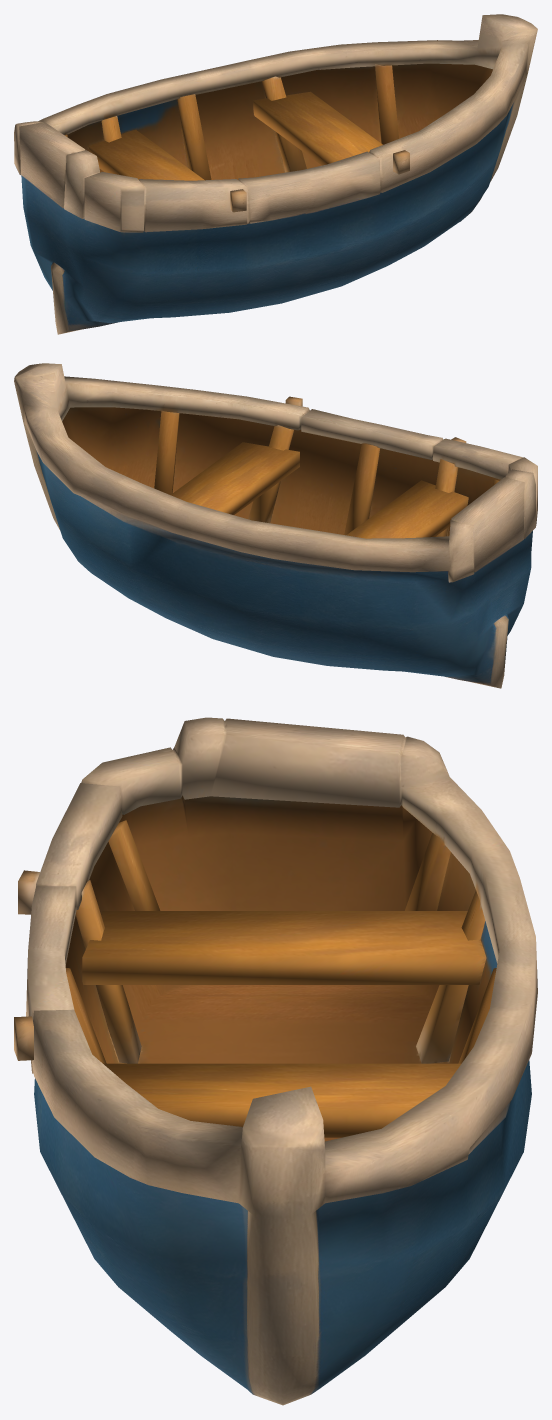
The picture shows the model from 3 angles, top to bottom: view 1: azimuth 30°, elevation 25°; view 2: azimuth 150°, elevation 25°; view 3: azimuth 270°, elevation 25°; orthographic projection. The views are drawn at different scales.
Visible parts, largest first — view 1: tripo_node_7d8ec4ac-b04b-4534-b2a5-0ae7feb69074; view 2: tripo_node_7d8ec4ac-b04b-4534-b2a5-0ae7feb69074; view 3: tripo_node_7d8ec4ac-b04b-4534-b2a5-0ae7feb69074.
Part boxes in pixels (bbox=[...]): tripo_node_7d8ec4ac-b04b-4534-b2a5-0ae7feb69074: bbox=[14, 14, 537, 334]; tripo_node_7d8ec4ac-b04b-4534-b2a5-0ae7feb69074: bbox=[14, 363, 537, 688]; tripo_node_7d8ec4ac-b04b-4534-b2a5-0ae7feb69074: bbox=[14, 717, 537, 1405].
Bounding box in the file's own units: 0.998 × 0.4199 × 0.5098.
1 material, 1 textured.
